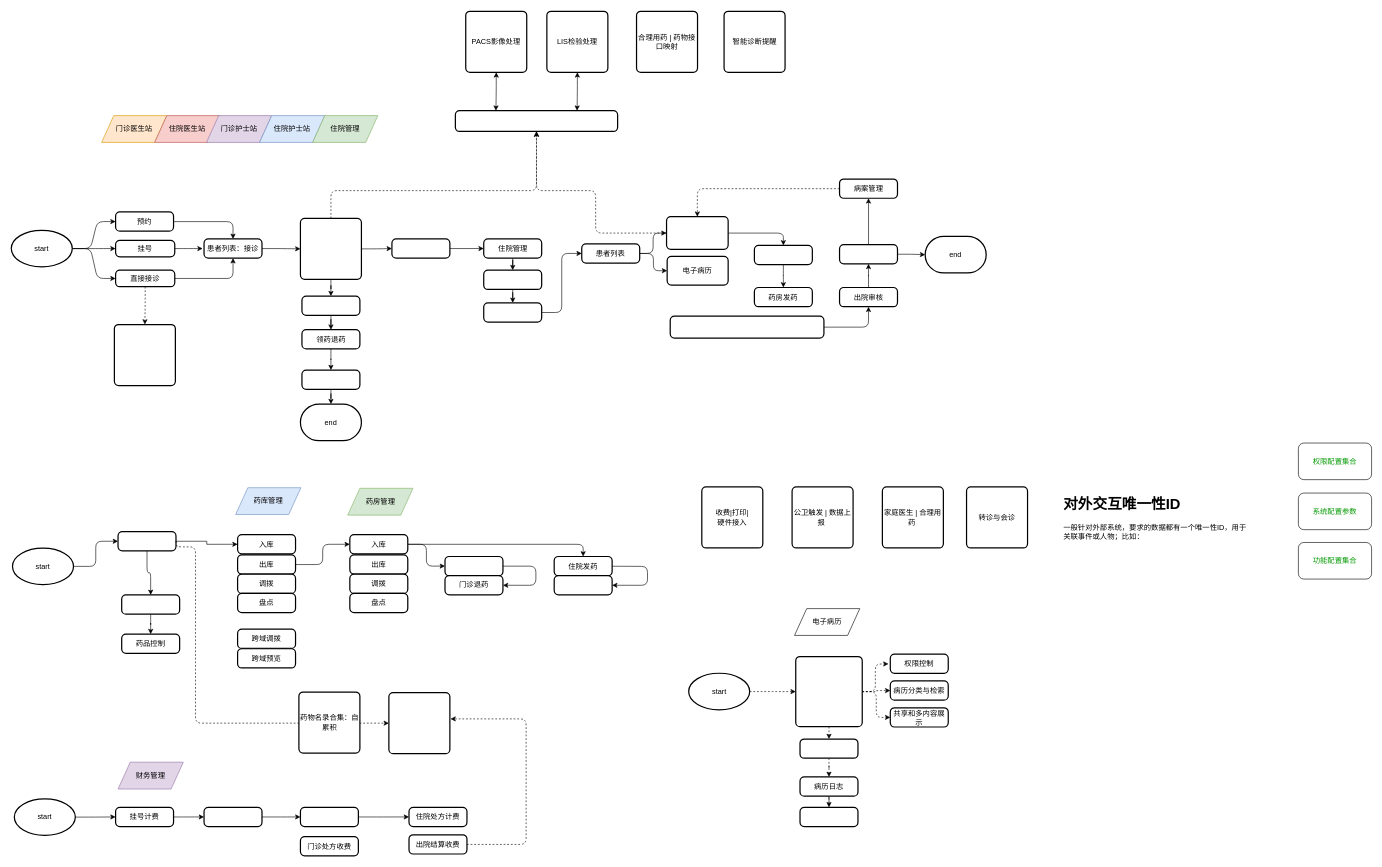
This 1382x867 diagram has some shape labels left out. The centre of each missing label's shape, as x and y in pixels:
"住院登记" belongs at (x=512, y=279).
"住院退药" belongs at (x=582, y=585).
"分配床位" belongs at (x=512, y=312).
"医保计费划价 医保药物名录" belongs at (x=419, y=723).
"医嘱处方" belongs at (x=697, y=233).
"医嘱执行" belongs at (x=783, y=254).
"厂商管理" belongs at (x=150, y=604).
"库房入库计费" belongs at (x=232, y=816).
"患者库" belongs at (x=144, y=355).
"收费" belongs at (x=330, y=305).
"收费清结" belongs at (x=868, y=254).
"数据适配与交互" belongs at (x=536, y=121).
"模板管理" belongs at (x=828, y=748).
"病历管理" belongs at (x=829, y=691).
"病历质控" belongs at (x=828, y=816).
"药物信息" belongs at (x=146, y=541).
"输液执行" belongs at (x=330, y=379).
"门诊住院申请" belongs at (x=420, y=248).
"门诊发药" belongs at (x=473, y=566).
"门诊处方计费" belongs at (x=329, y=816).
"门诊诊断 门诊处方" belongs at (x=331, y=248).
"预缴计费，每日自动扣费" belongs at (x=746, y=326).
